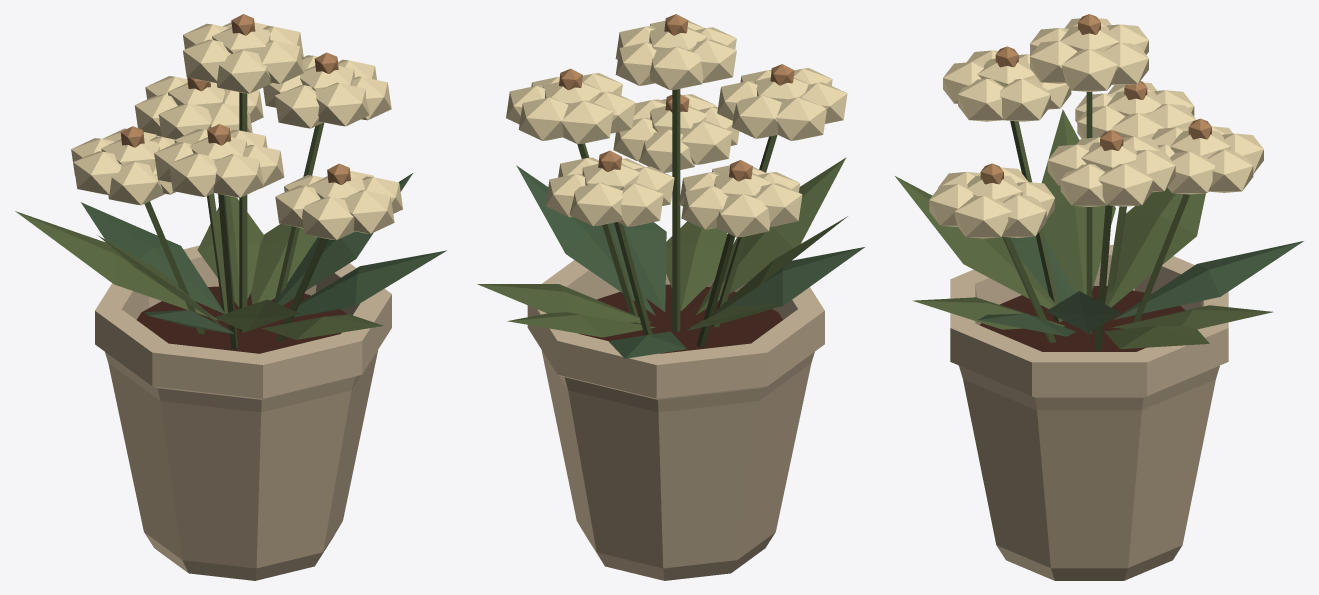
Rendered from planter_01.glb.
3 views of the same model, side by side, from view 1: azimuth 30°, elevation 25°; view 2: azimuth 150°, elevation 25°; view 3: azimuth 270°, elevation 25° (orthographic).
Visible parts, largest first — view 1: Pot, Soil, Leaf_03, Leaf_04, Leaf_09, Leaf_02, Leaf_01, Leaf_00, Petal_01_4, Petal_05_2, Petal_00_4, Petal_04_3 (+34 smaller); view 2: Pot, Soil, Leaf_07, Leaf_00, Leaf_08, Leaf_06, Leaf_01, Leaf_09, Stem_00, Leaf_02, Petal_00_2, Petal_02_1 (+36 smaller); view 3: Pot, Leaf_04, Leaf_05, Leaf_03, Soil, Leaf_07, Petal_05_4, Petal_00_0, Leaf_02, Petal_01_0, Leaf_01, Petal_04_5 (+34 smaller).
Boxes of the visible parts, <box> form: Pot: <box>95,245,391,580</box>; Soil: <box>137,286,346,353</box>; Leaf_03: <box>81,202,224,313</box>; Leaf_04: <box>15,211,218,320</box>; Leaf_09: <box>283,250,446,319</box>; Leaf_02: <box>197,195,263,307</box>; Leaf_01: <box>251,224,317,304</box>; Leaf_00: <box>274,173,412,305</box>; Petal_01_4: <box>315,82,369,126</box>; Petal_05_2: <box>302,196,355,240</box>; Petal_00_4: <box>216,50,272,93</box>; Petal_04_3: <box>213,154,263,197</box>; Pot: <box>527,260,824,580</box>; Soil: <box>579,284,782,353</box>; Leaf_07: <box>696,157,846,314</box>; Leaf_00: <box>516,165,655,315</box>; Leaf_08: <box>666,221,727,310</box>; Leaf_06: <box>701,247,864,321</box>; Leaf_01: <box>477,284,651,322</box>; Leaf_09: <box>609,222,666,311</box>; Stem_00: <box>672,89,680,332</box>; Leaf_02: <box>507,312,655,337</box>; Petal_00_2: <box>649,46,703,90</box>; Petal_02_1: <box>569,182,623,226</box>; Pot: <box>950,245,1228,580</box>; Leaf_04: <box>1105,187,1205,307</box>; Leaf_05: <box>1041,109,1115,294</box>; Leaf_03: <box>1113,241,1303,319</box>; Soil: <box>979,286,1184,351</box>; Leaf_07: <box>895,176,1055,308</box>; Petal_05_4: <box>954,195,1012,238</box>; Petal_00_0: <box>1062,49,1117,91</box>; Leaf_02: <box>1111,305,1273,329</box>; Petal_01_0: <box>1098,163,1153,206</box>; Leaf_01: <box>1104,326,1209,349</box>; Petal_04_5: <box>1000,79,1050,121</box>.
Bounding box in the file's own units: 0.6312 × 0.9665 × 0.676.
